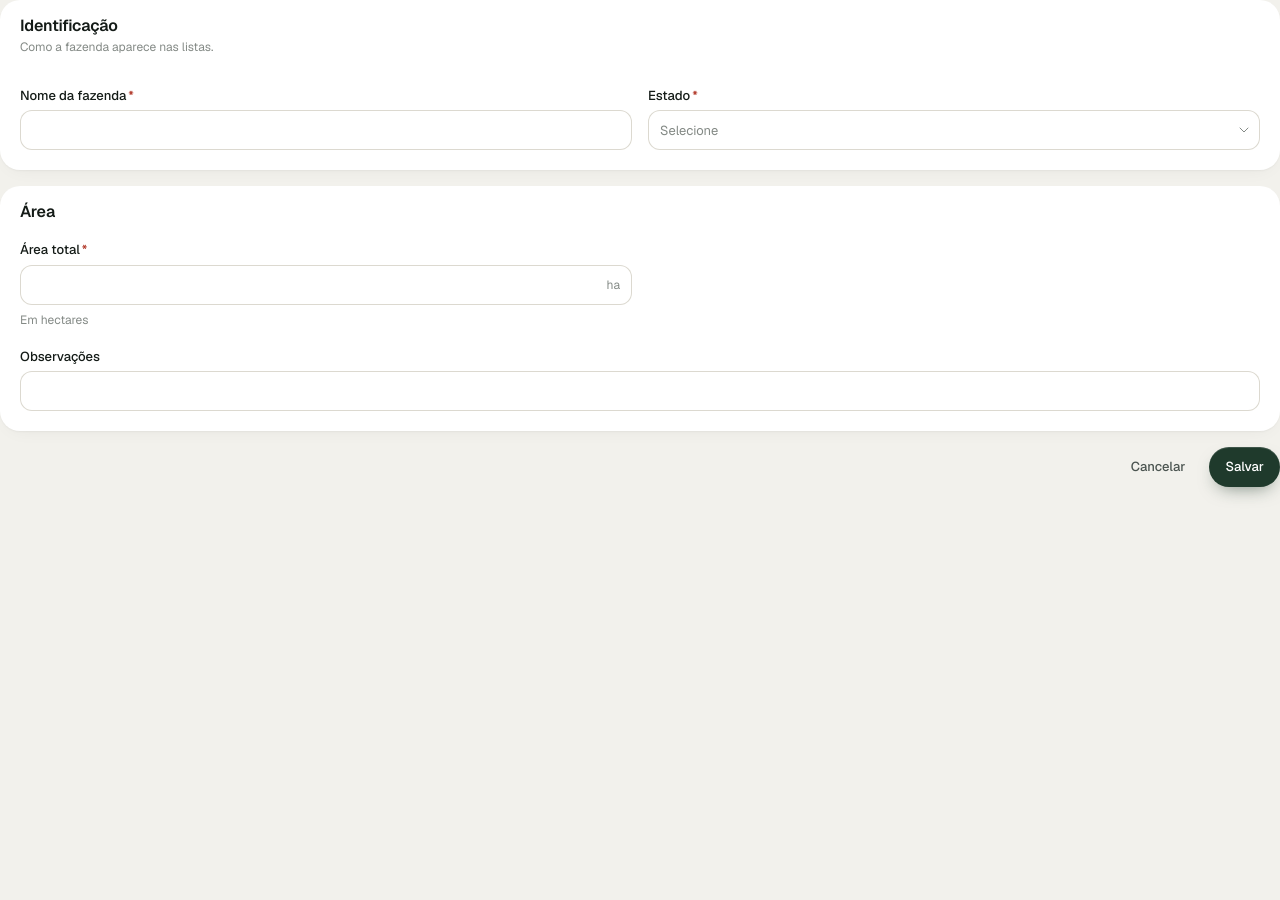
Test: EntityForm › o aviso de saída fecha com Escape, sem descartar
In the field labelled "Nome da fazenda": [326, 130] box [32,110,620,150], type "Fazenda"
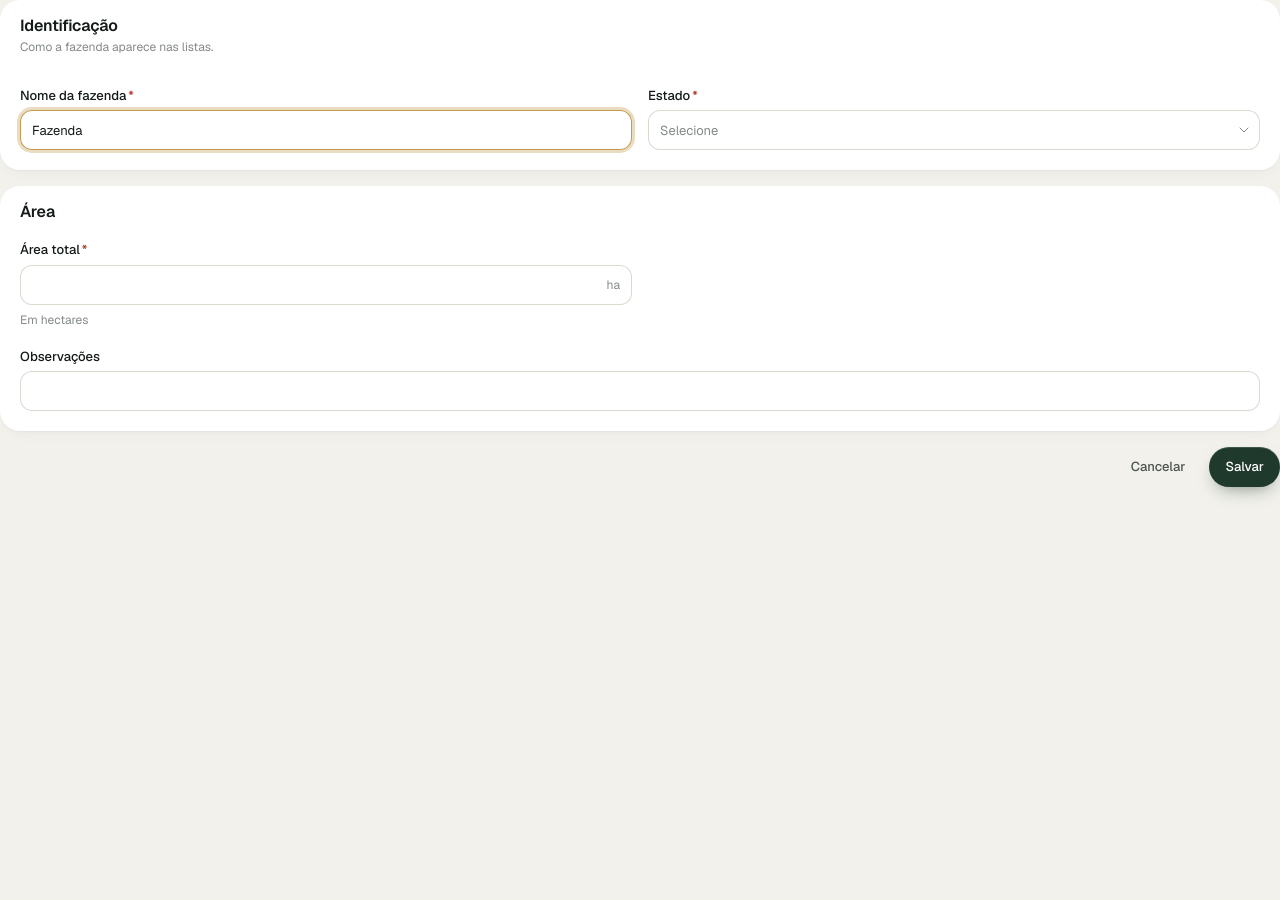
Click the button "Cancelar": [1158, 467] box [1115,447,1201,487]
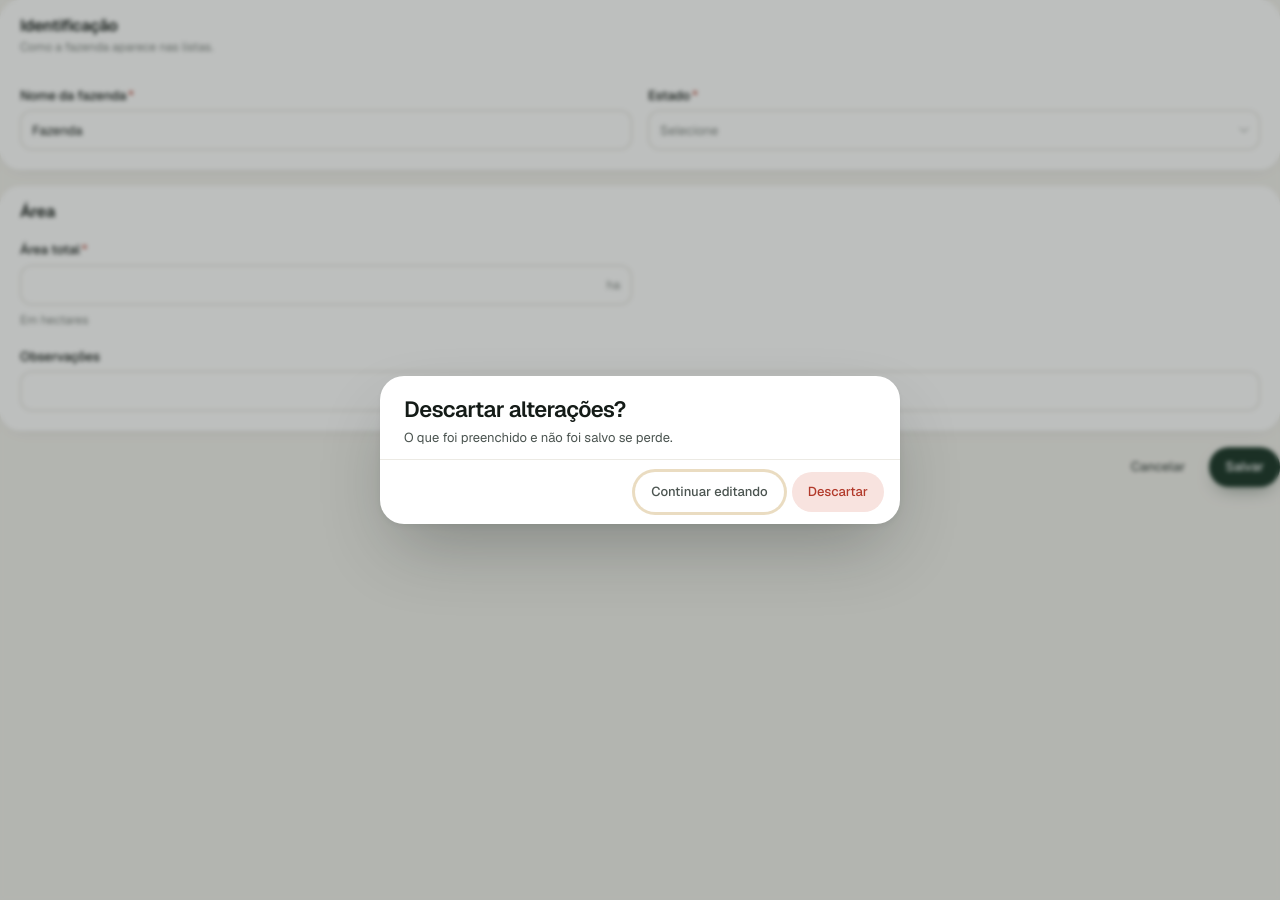
Press Escape
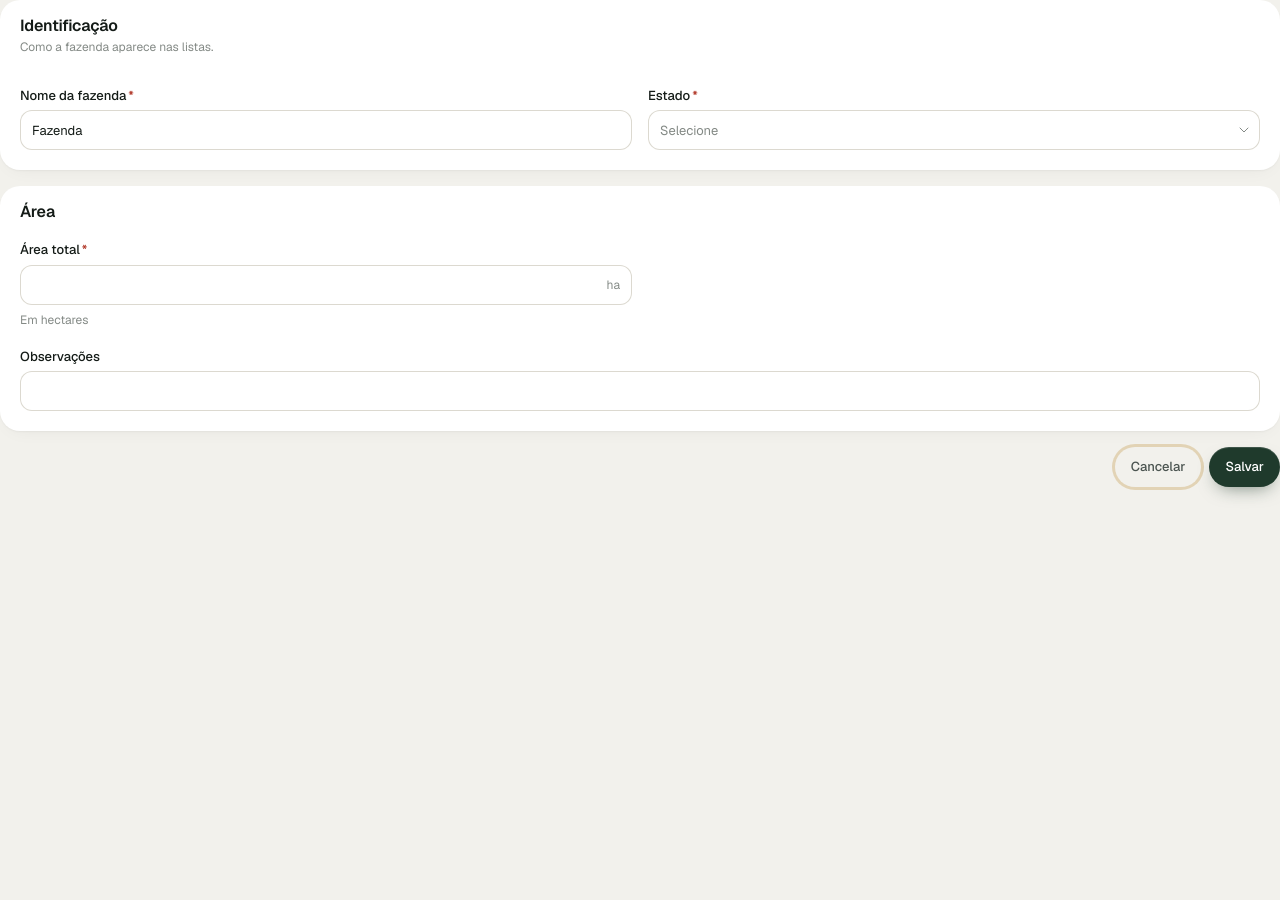
Now the dialog is gone
